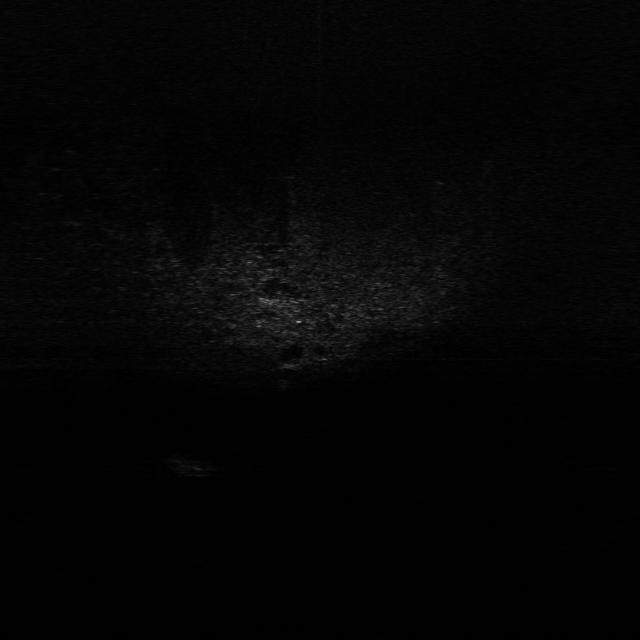circle cage: (159, 450, 223, 478)
cylinder: (274, 371, 290, 393)
